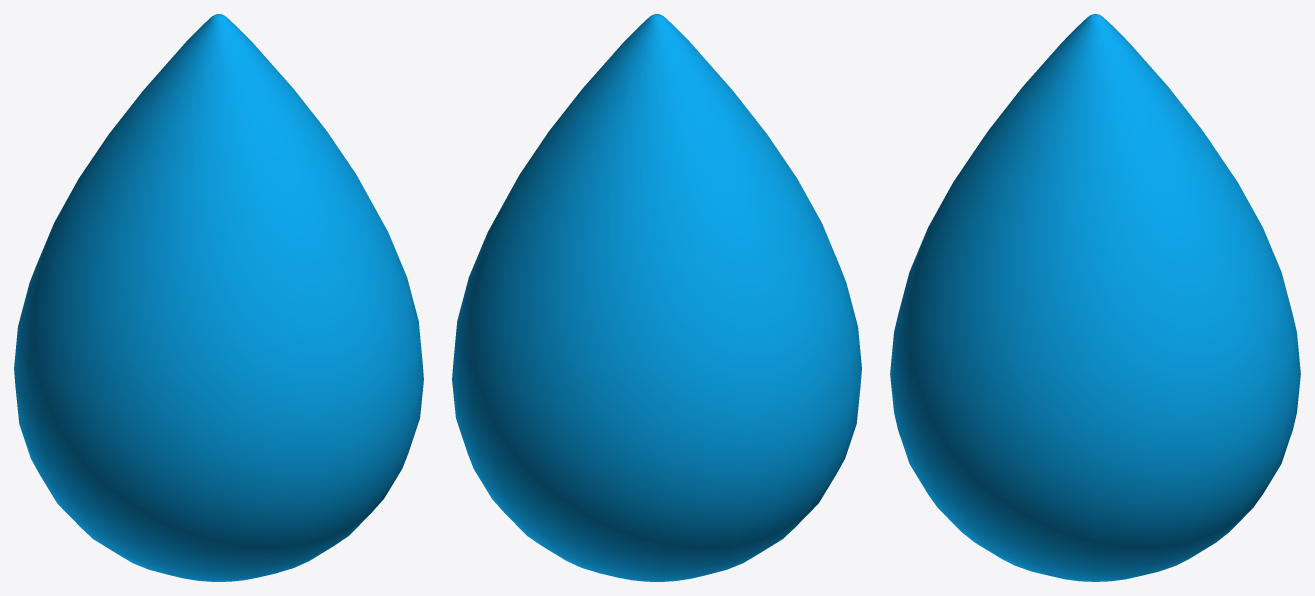
The model's file is droplet.fbx.
3 views of the same model, side by side, from view 1: azimuth 30°, elevation 25°; view 2: azimuth 150°, elevation 25°; view 3: azimuth 270°, elevation 25° (orthographic).
Visible parts, largest first — view 1: Sphere.417; view 2: Sphere.417; view 3: Sphere.417.
Part boxes in pixels (<box>): Sphere.417: <box>14,14,423,581</box>; Sphere.417: <box>452,14,861,581</box>; Sphere.417: <box>890,14,1300,581</box>.
Bounding box in the file's own units: 157 × 231 × 157.
1 material, 1 textured.
